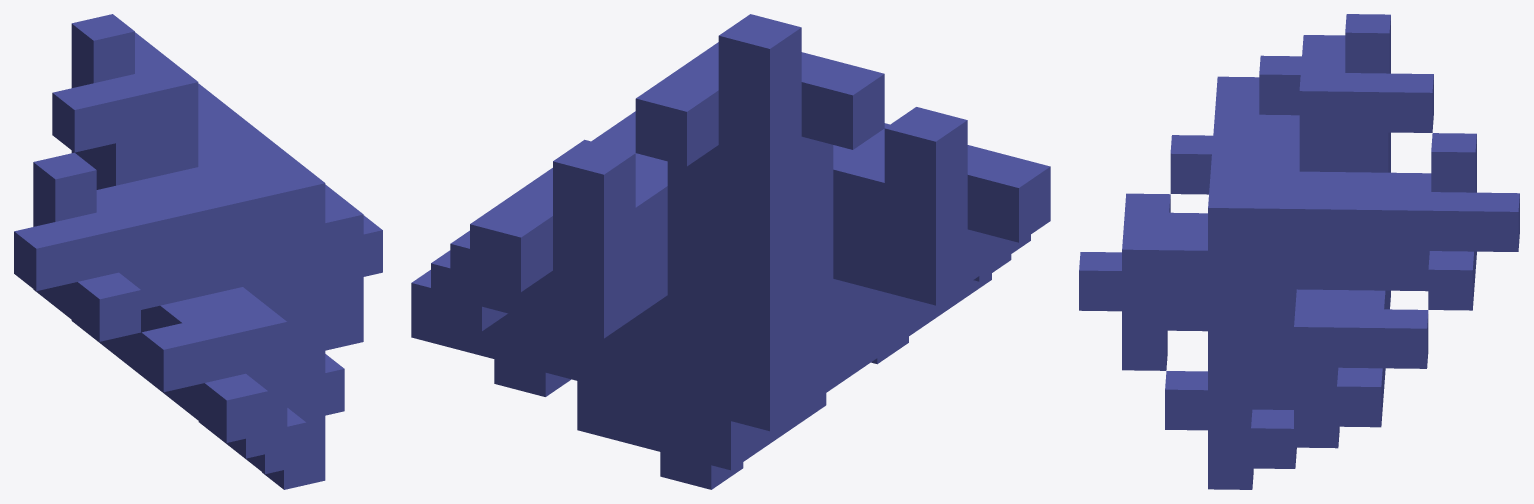
The model's file is fractal2.fbx.
3 renders of one model, left to right at view 1: azimuth 30°, elevation 25°; view 2: azimuth 150°, elevation 25°; view 3: azimuth 270°, elevation 25°, orthographic. The views are drawn at different scales.
Parts seen in each view (by area): view 1: Cube; view 2: Cube; view 3: Cube.
Part boxes in pixels (x1,y1,x2,y2): Cube: (14, 14, 382, 489); Cube: (411, 14, 1050, 489); Cube: (1079, 14, 1519, 489).
Bounding box in the file's own units: 5.06 × 5 × 4.97.
